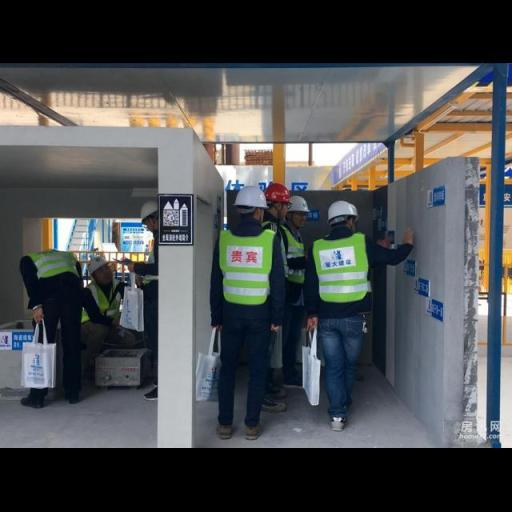Person: (312, 196, 422, 430), (10, 225, 94, 424), (216, 178, 276, 448), (81, 235, 143, 356), (279, 180, 313, 290)
boots: (255, 372, 299, 404), (325, 403, 356, 436), (240, 410, 266, 447), (209, 410, 237, 443), (136, 368, 158, 406), (56, 382, 90, 405), (11, 388, 49, 408), (258, 395, 289, 413)
helmet: (228, 178, 272, 216), (322, 191, 362, 231), (256, 171, 293, 205), (80, 254, 115, 280), (135, 196, 163, 227), (287, 190, 317, 218)
vest: (297, 226, 374, 312), (212, 224, 279, 312), (19, 240, 82, 302), (80, 270, 127, 342), (268, 215, 311, 292), (126, 230, 164, 297)
